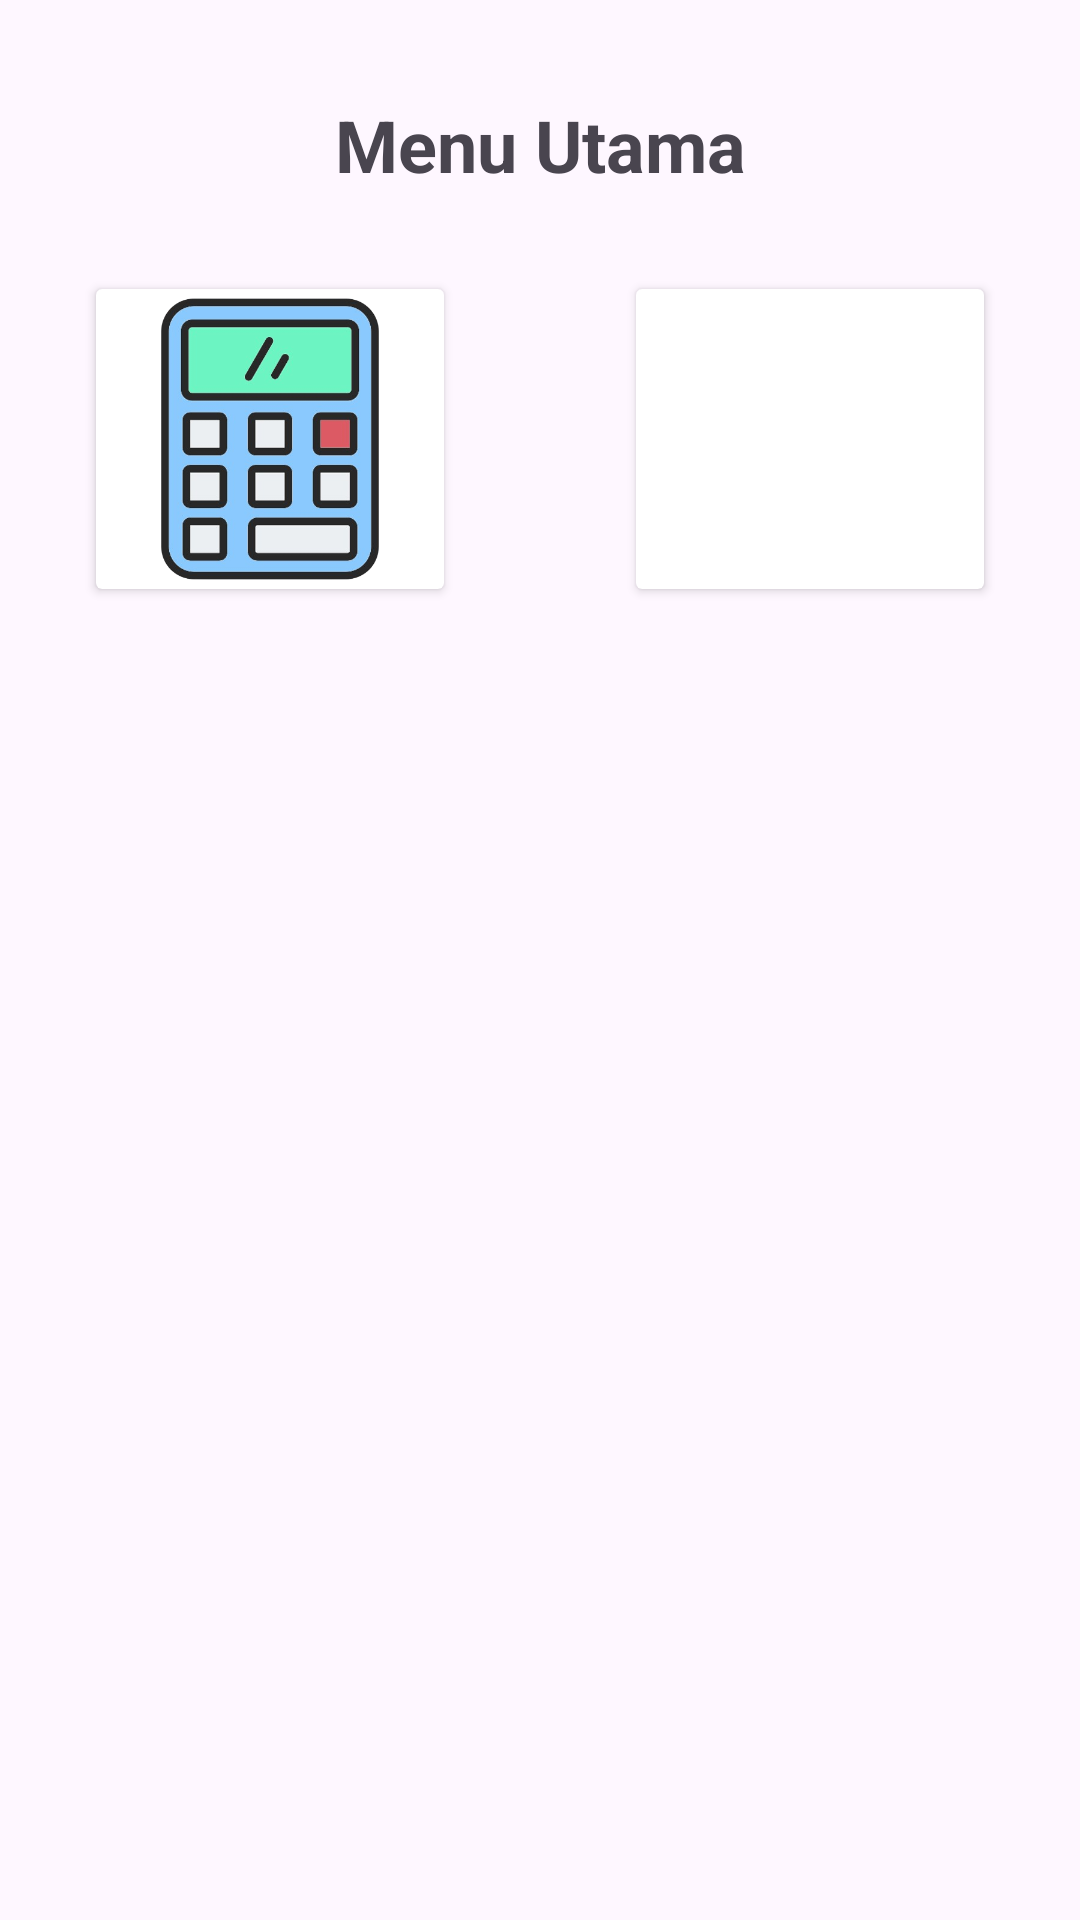

Where to tap for icons on this 1080px×1920px app screen, as (x,y):
calc: (270,439)
